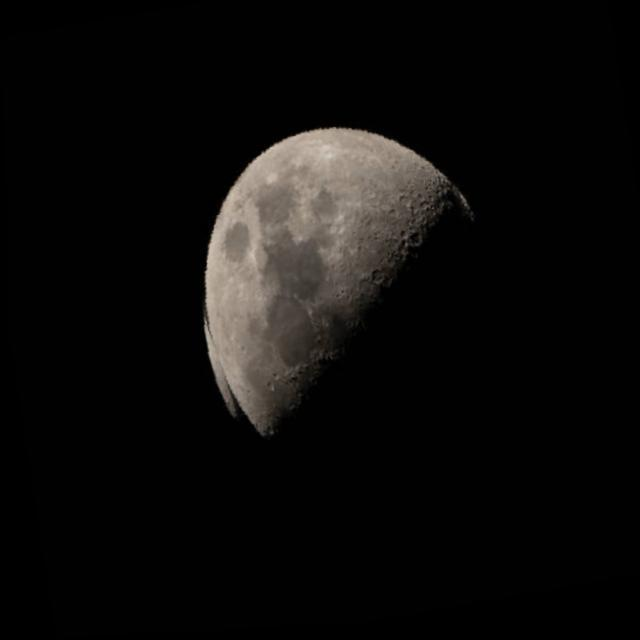moon: (154, 100, 516, 498)
